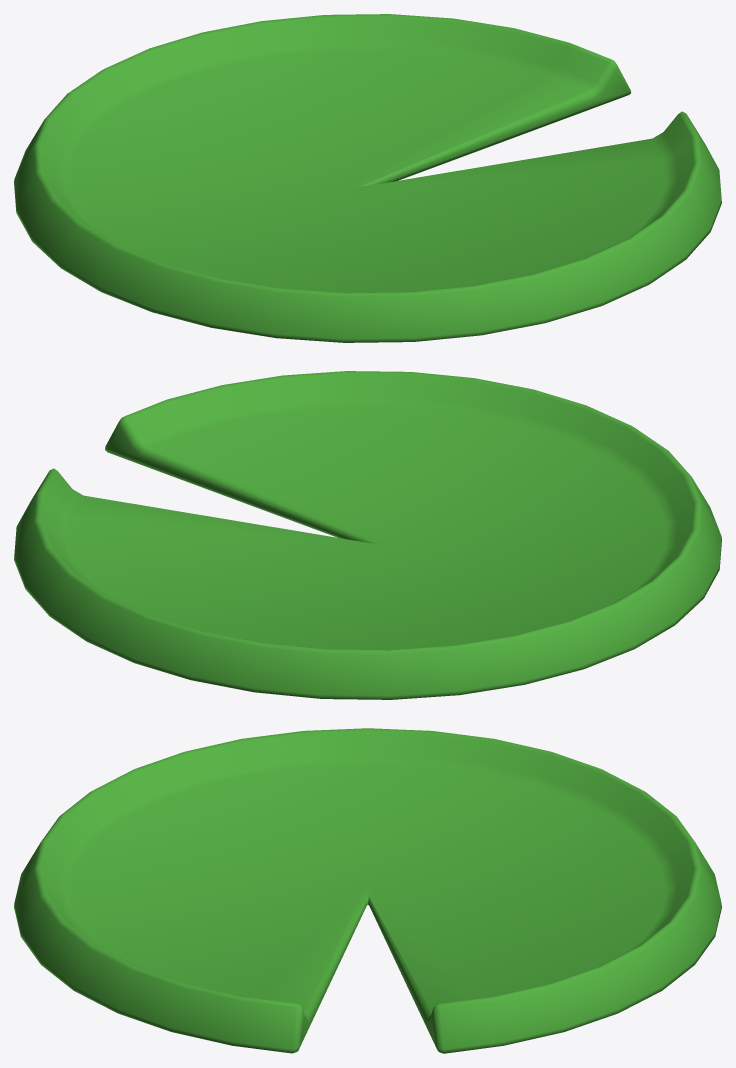
Rendered from lily-1.fbx.
The picture shows the model from 3 angles, top to bottom: view 1: azimuth 30°, elevation 25°; view 2: azimuth 150°, elevation 25°; view 3: azimuth 270°, elevation 25°; orthographic projection.
Parts seen in each view (by area): view 1: Circle; view 2: Circle; view 3: Circle.
Part boxes in pixels (left/top/right/bottom): Circle: left=14, top=14, right=721, bottom=342; Circle: left=14, top=371, right=721, bottom=699; Circle: left=14, top=728, right=721, bottom=1053.
Size of the model in its own units: 113 by 7.34 by 114.
